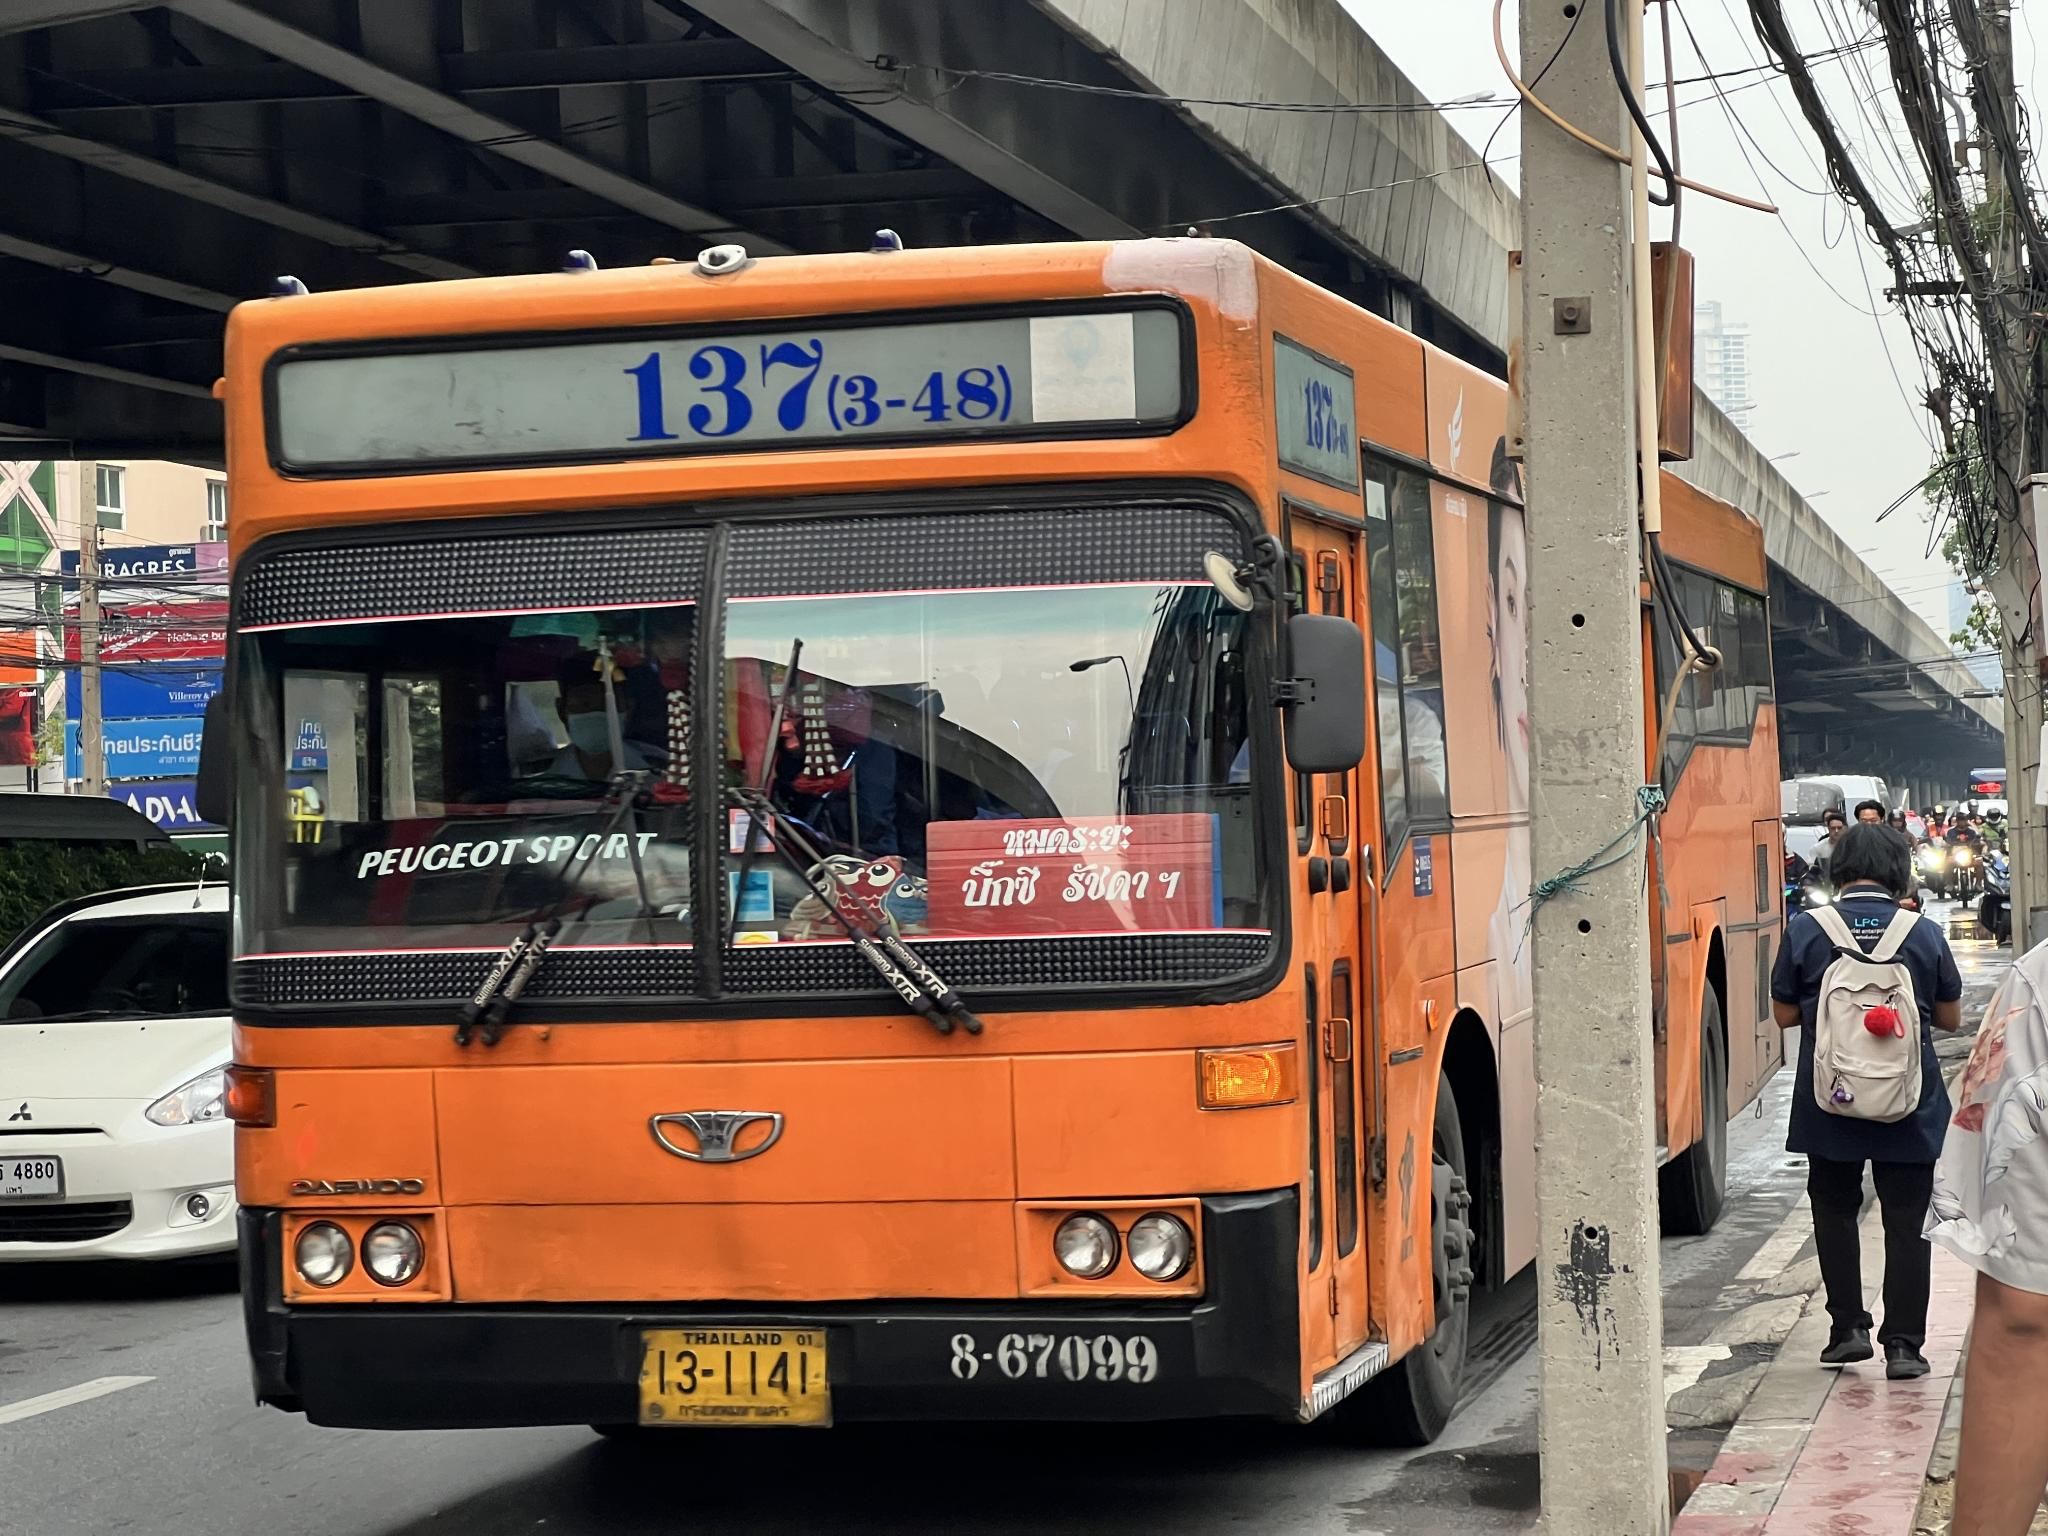BMTA-bus: (195, 239, 1671, 1441)
Bus Line Number: (598, 324, 1037, 474)
Bus Side Number: (927, 1321, 1171, 1394)
Destination Sign: (932, 818, 1218, 936)
